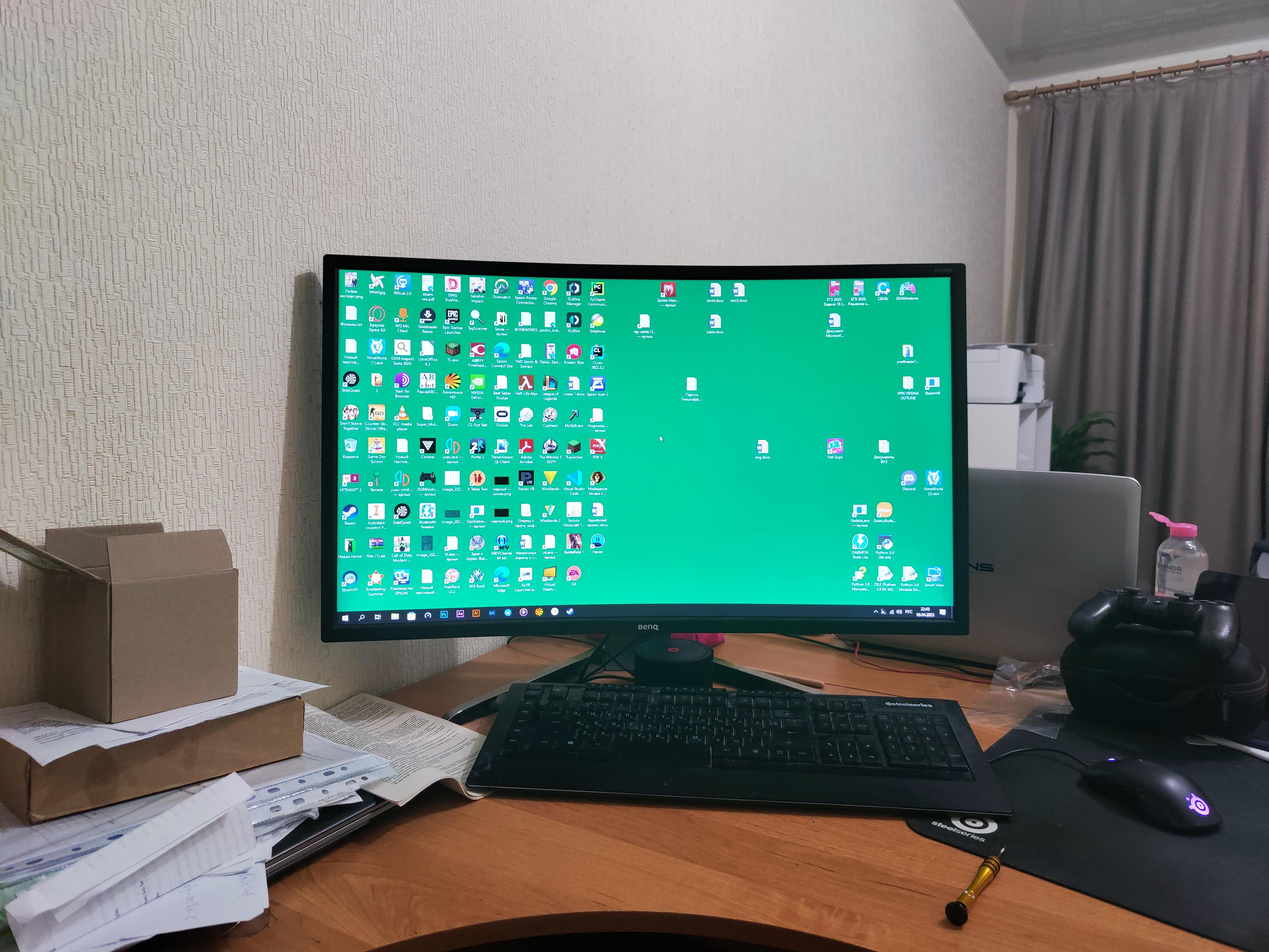monitor: (313, 243, 977, 641)
